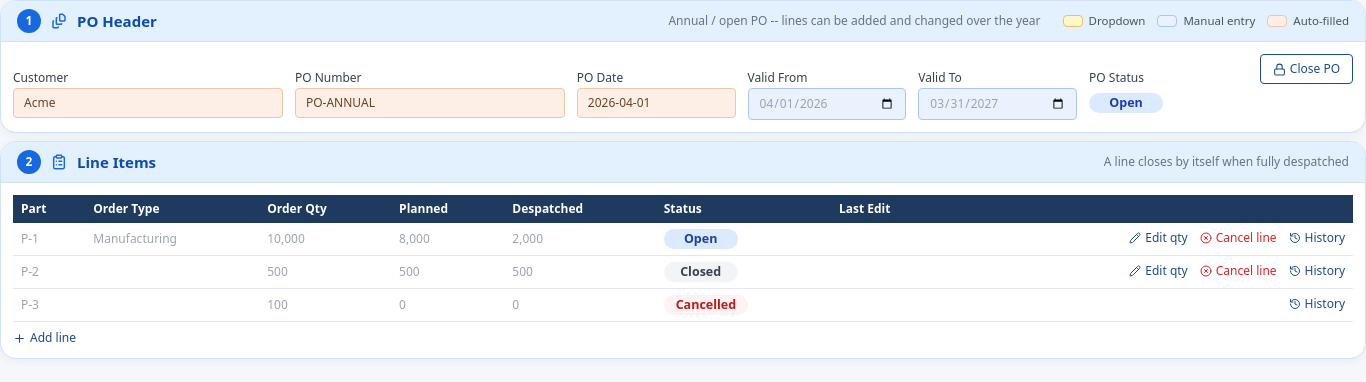
Test: PO view › qty increase saves
Later steps or results of the test are not shown.
Click the button "Edit qty" in the row of "P-1" at (1158, 238), box left=1129, top=230, right=1188, bottom=246
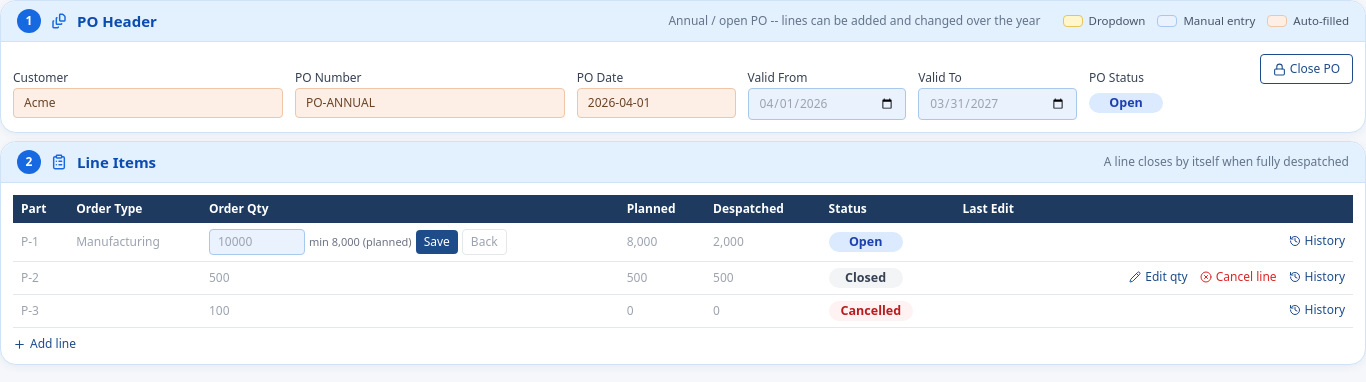
Check: the text "min 8,000 (planned)" is shown, box left=309, top=234, right=412, bottom=250
